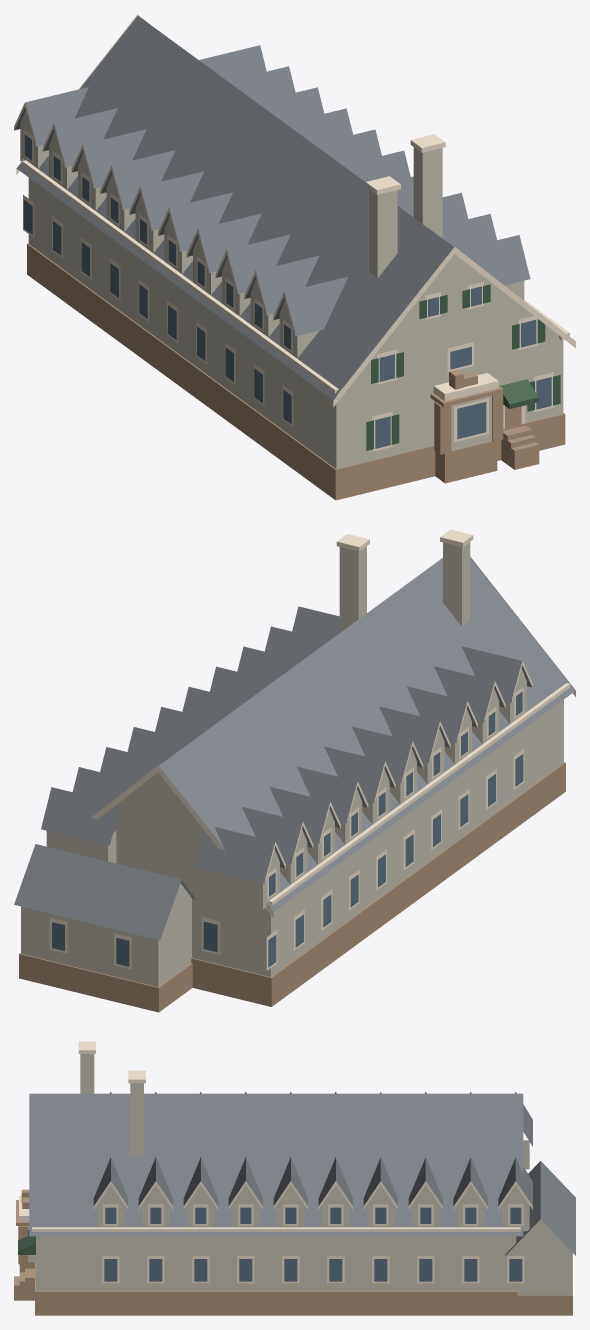
The model's file is slc-lion-house.glb.
The picture shows the model from 3 angles, top to bottom: view 1: azimuth 30°, elevation 25°; view 2: azimuth 150°, elevation 25°; view 3: azimuth 270°, elevation 25°; orthographic projection. The views are drawn at different scales.
Visible parts, largest first — view 1: Lion House; view 2: Lion House; view 3: Lion House.
Part boxes in pixels (x1,y1,x2,y2): Lion House: (14,14,575,500); Lion House: (14,529,575,1012); Lion House: (14,1041,575,1315).
Bounding box in the file's own units: 15.8 × 17 × 40.6.
